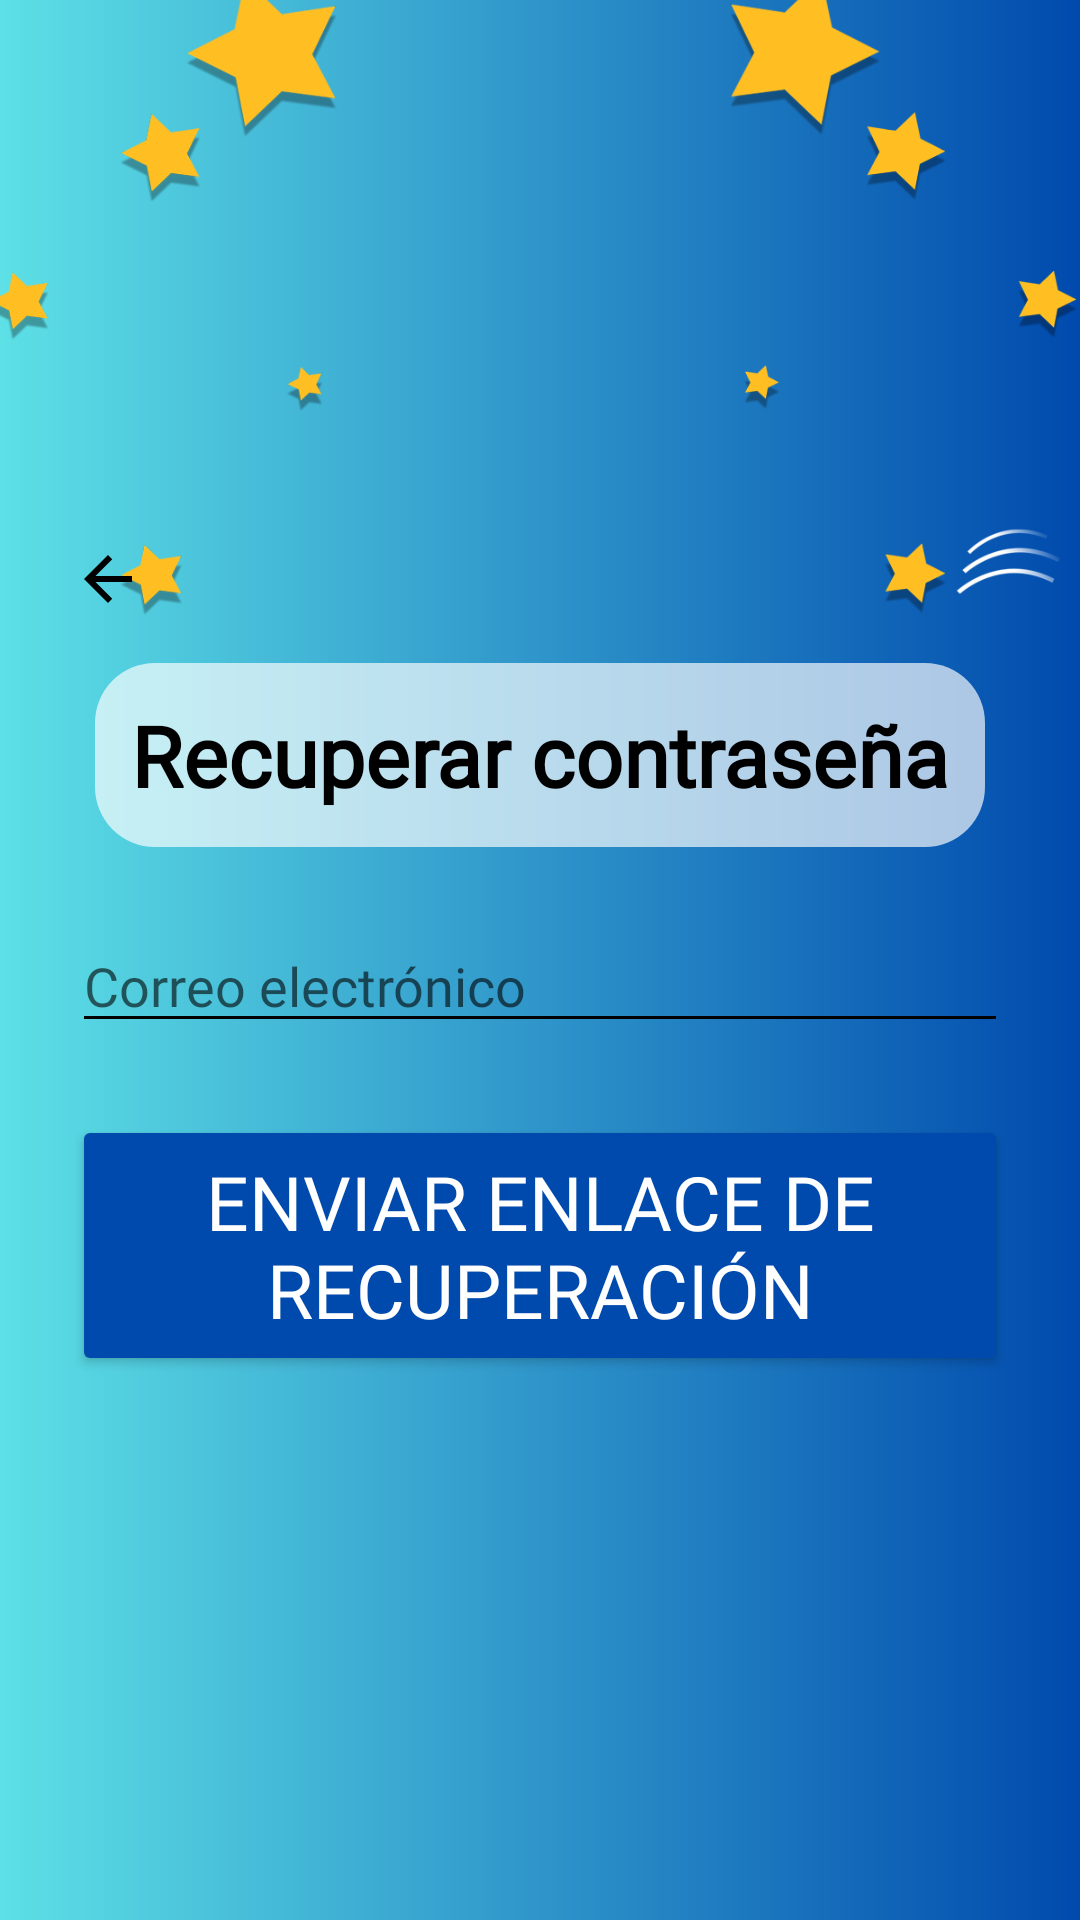

Named icons in this screenshot (1080px x 1920px) and their centers, (x,y):
Volver: (114,580)
